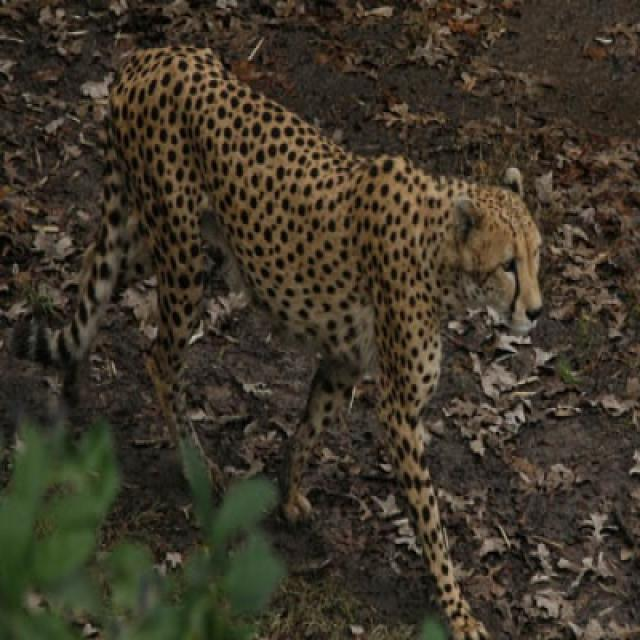Cheetah: (64, 48, 539, 638)
